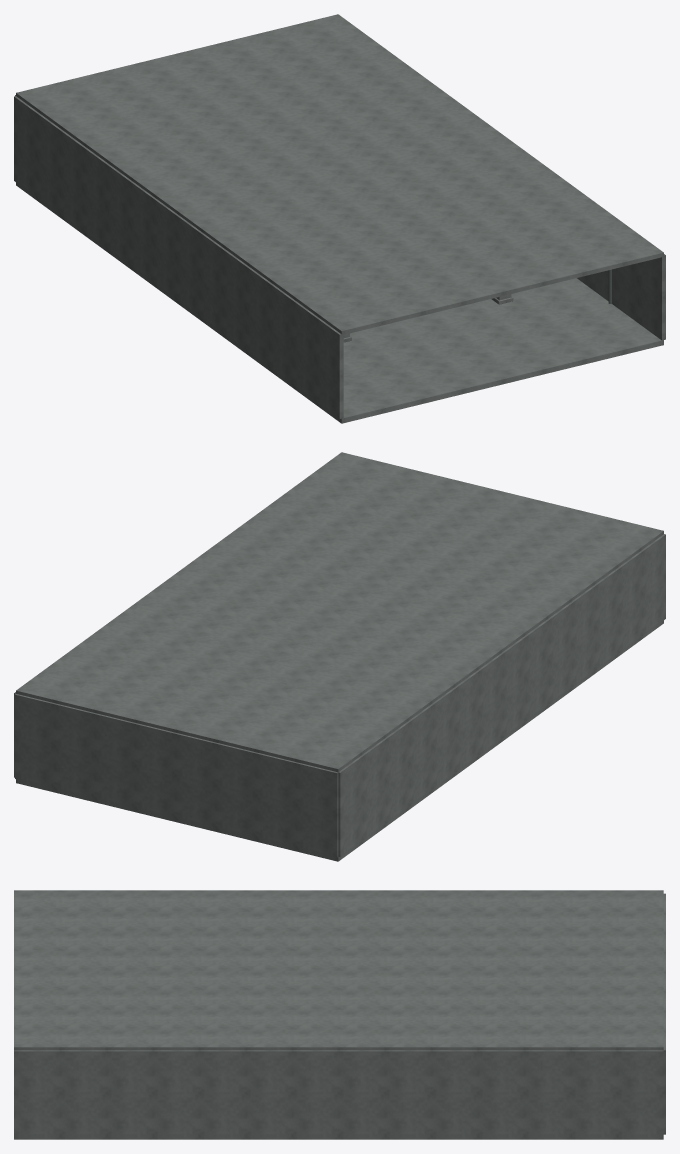
File: level1-hall.glb
The picture shows the model from 3 angles, top to bottom: view 1: azimuth 30°, elevation 25°; view 2: azimuth 150°, elevation 25°; view 3: azimuth 270°, elevation 25°; orthographic projection.
Visible parts, largest first — view 1: Static batch Concrete warm aggregate; view 2: Static batch Concrete warm aggregate; view 3: Static batch Concrete warm aggregate.
Boxes of the visible parts, bbox=[...] form: Static batch Concrete warm aggregate: bbox=[14, 14, 665, 423]; Static batch Concrete warm aggregate: bbox=[14, 452, 665, 861]; Static batch Concrete warm aggregate: bbox=[14, 890, 665, 1139].
Bounding box in the file's own units: 16.2 × 4.39 × 28.1.
9 materials, 3 textured.
